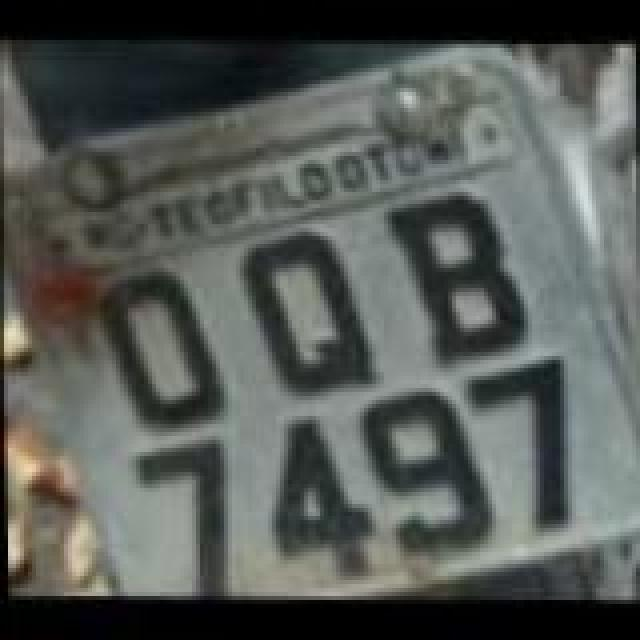4: (258, 406, 386, 590)
7: (462, 358, 578, 538), (126, 444, 242, 604)
9: (358, 378, 498, 566)
B: (378, 174, 538, 370)
O: (94, 258, 238, 434)
Q: (232, 218, 380, 402)
